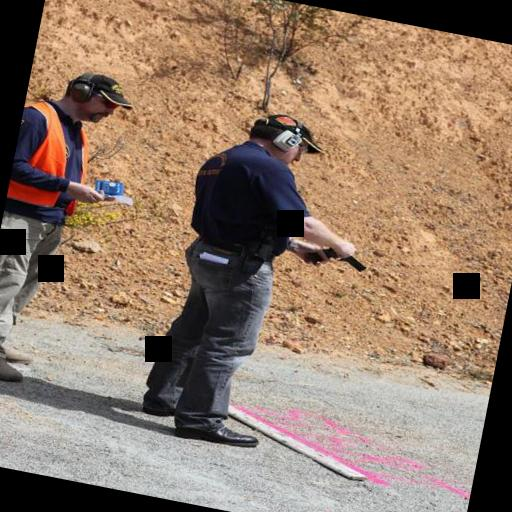Handgun: (296, 237, 380, 279)
